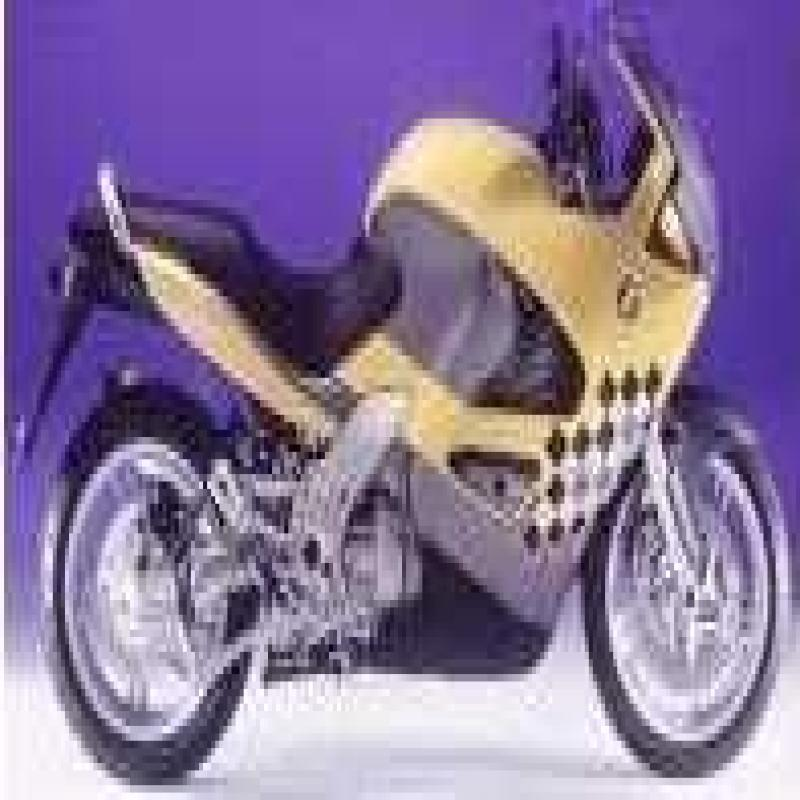bike: (29, 0, 800, 800)
